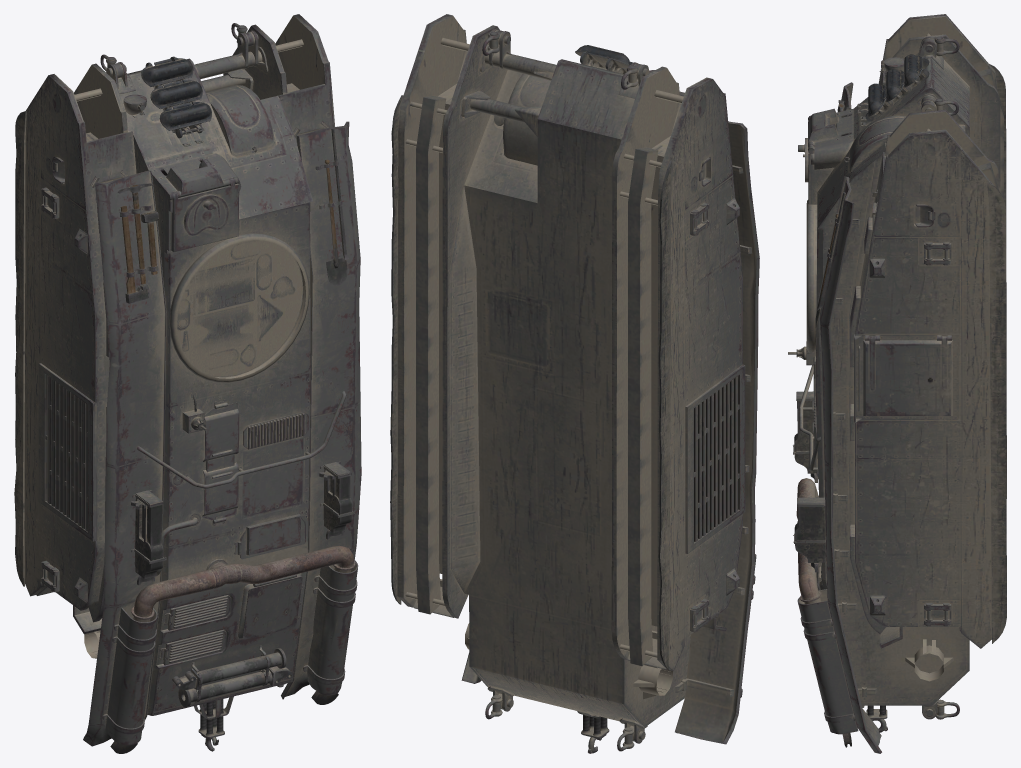
File: Hull.glb
3 views of the same model, side by side, from view 1: azimuth 30°, elevation 25°; view 2: azimuth 150°, elevation 25°; view 3: azimuth 270°, elevation 25° (orthographic). The views are drawn at different scales.
Visible parts, largest first — view 1: set_0_group_0; view 2: set_0_group_0; view 3: set_0_group_0.
Boxes of the visible parts, x1,y1,x2,y2 form: set_0_group_0: (14, 14, 361, 753); set_0_group_0: (390, 14, 759, 753); set_0_group_0: (788, 14, 1006, 753).
Bounding box in the file's own units: 2.63 × 6.47 × 1.94.
1 material, 1 textured.
